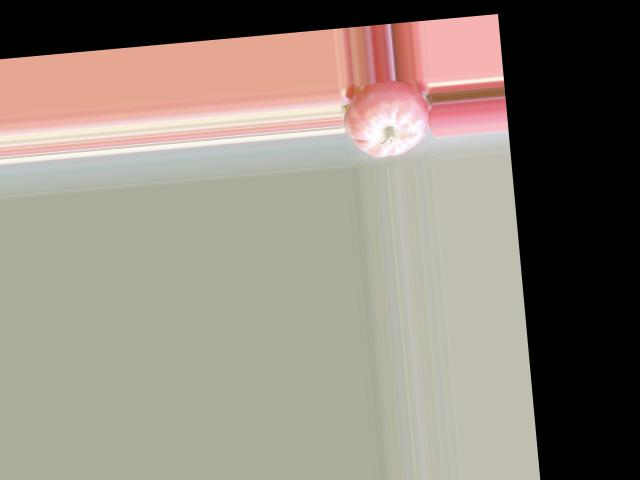tomato: (339, 77, 432, 160)
